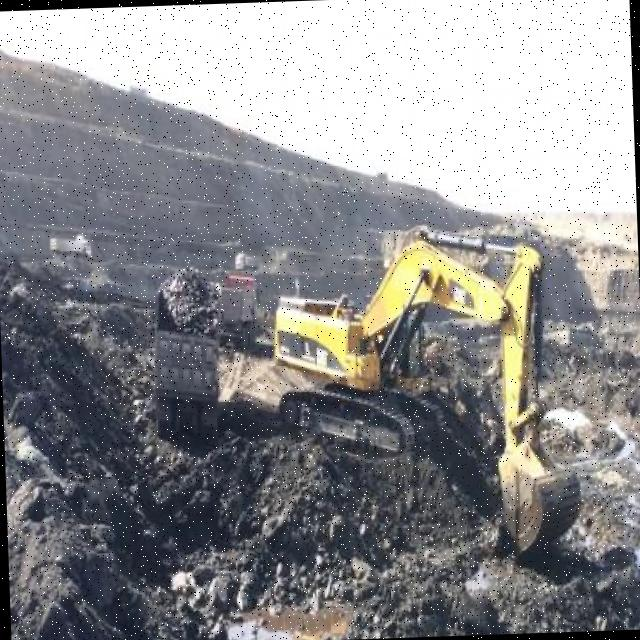Dump Truck: (154, 267, 222, 440), (218, 269, 260, 350), (49, 228, 92, 260), (234, 251, 258, 272)
Excavator: (270, 227, 584, 562)
